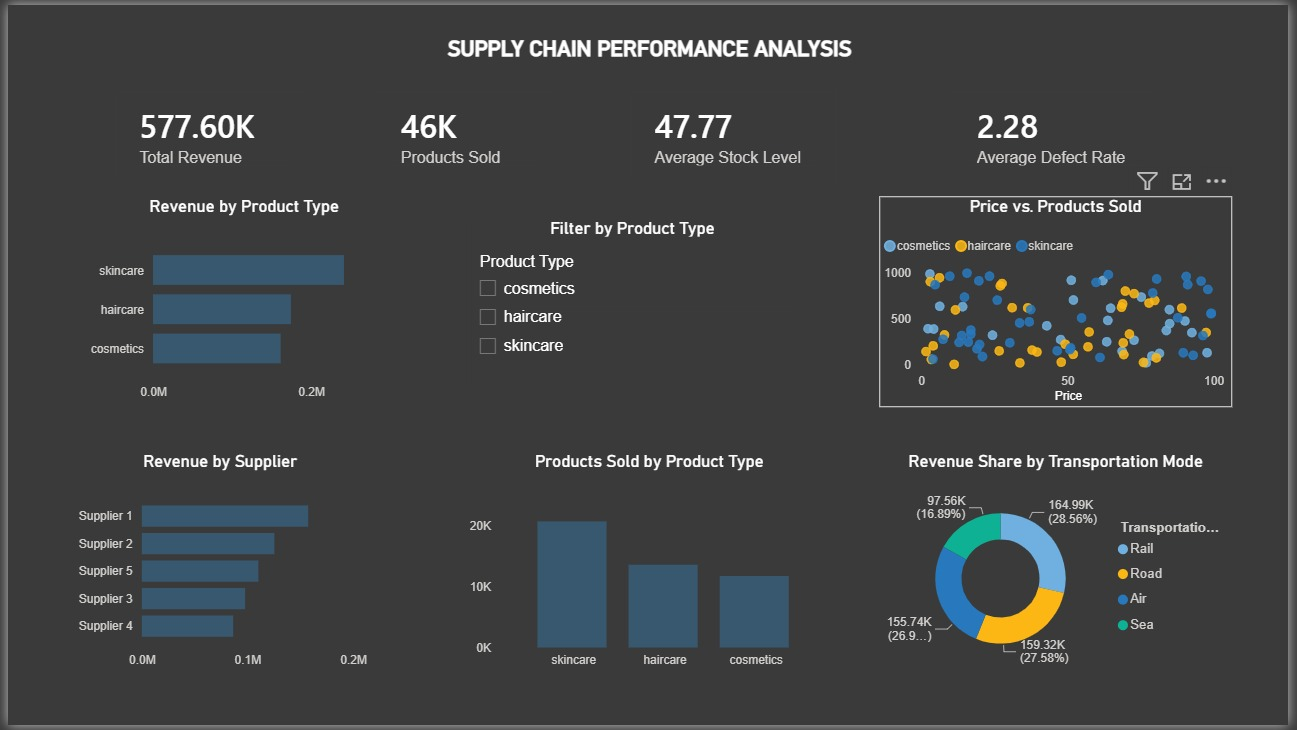

The page's visual inventory and layout, read from the dashboard file:
{"tool":"powerbi","page":{"name":"Supply Chain Overview","canvas":[1280,720],"ordinal":0},"visuals":[{"type":"textbox","box":[434.3,22.9,415.7,48.6],"z":0},{"type":"cardVisual","fields":{"Data":["Sum(supply_chain_data. Number Of Products Sold)"]},"box":[364.3,82.9,187.1,95.7],"z":1000},{"type":"cardVisual","fields":{"Data":["Avg(supply_chain_data. Stock Levels)"]},"box":[617.1,82.9,211.4,95.7],"z":2000},{"type":"cardVisual","title":"Products Sold","fields":{"Data":["Avg(supply_chain_data. Defect Rates)"]},"box":[940,82.9,214.3,95.7],"z":3000},{"type":"cardVisual","fields":{"Data":["Sum(supply_chain_data. Revenue Generated)"]},"box":[102.9,82.9,201.4,95.7],"z":4000},{"type":"clusteredBarChart","title":"Revenue by Product Type","fields":{"Category":["supply_chain_data. Product Type"],"Y":["Sum(supply_chain_data. Revenue Generated)"]},"box":[71.4,191.4,330,211.4],"z":5000},{"type":"clusteredColumnChart","title":"Products Sold by Product Type","fields":{"Category":["supply_chain_data. Product Type"],"Y":["Sum(supply_chain_data. Number Of Products Sold)"]},"box":[455.7,445.7,370,224.3],"z":6000},{"type":"clusteredBarChart","title":"Revenue by Supplier","fields":{"Category":["supply_chain_data. Supplier Name"],"Y":["Sum(supply_chain_data. Revenue Generated)"]},"box":[60,445.7,304.3,224.3],"z":7000},{"type":"donutChart","title":"Revenue Share by Transportation Mode","fields":{"Category":["supply_chain_data. Transportation Modes"],"Y":["Sum(supply_chain_data. Revenue Generated)"]},"box":[871.4,445.7,352.9,224.3],"z":8000},{"type":"scatterChart","title":"Price vs. Products Sold","fields":{"X":["supply_chain_data.   Price"],"Y":["supply_chain_data. Number Of Products Sold"],"Series":["supply_chain_data. Product Type"]},"box":[871.4,191.4,352.9,211.4],"z":9000},{"type":"slicer","title":"Filter by Product Type","fields":{"Values":["supply_chain_data. Product Type"]},"box":[458.6,212.9,331.4,168.6],"z":10000}]}

Visuals, with their boxes in screenshot pixels (x1, y1, x2, y2), scaled from the page's 1280x720 canvas onto the 1297x730 screenshot:
textbox: left=440, top=23, right=861, bottom=72
cardVisual - Sum(supply_chain_data. Number Of Products Sold): left=369, top=84, right=559, bottom=181
cardVisual - Avg(supply_chain_data. Stock Levels): left=625, top=84, right=840, bottom=181
"Products Sold" cardVisual: left=952, top=84, right=1170, bottom=181
cardVisual - Sum(supply_chain_data. Revenue Generated): left=104, top=84, right=308, bottom=181
"Revenue by Product Type" clusteredBarChart: left=72, top=194, right=407, bottom=408
"Products Sold by Product Type" clusteredColumnChart: left=462, top=452, right=837, bottom=679
"Revenue by Supplier" clusteredBarChart: left=61, top=452, right=369, bottom=679
"Revenue Share by Transportation Mode" donutChart: left=883, top=452, right=1241, bottom=679
"Price vs. Products Sold" scatterChart: left=883, top=194, right=1241, bottom=408
"Filter by Product Type" slicer: left=465, top=216, right=800, bottom=387
